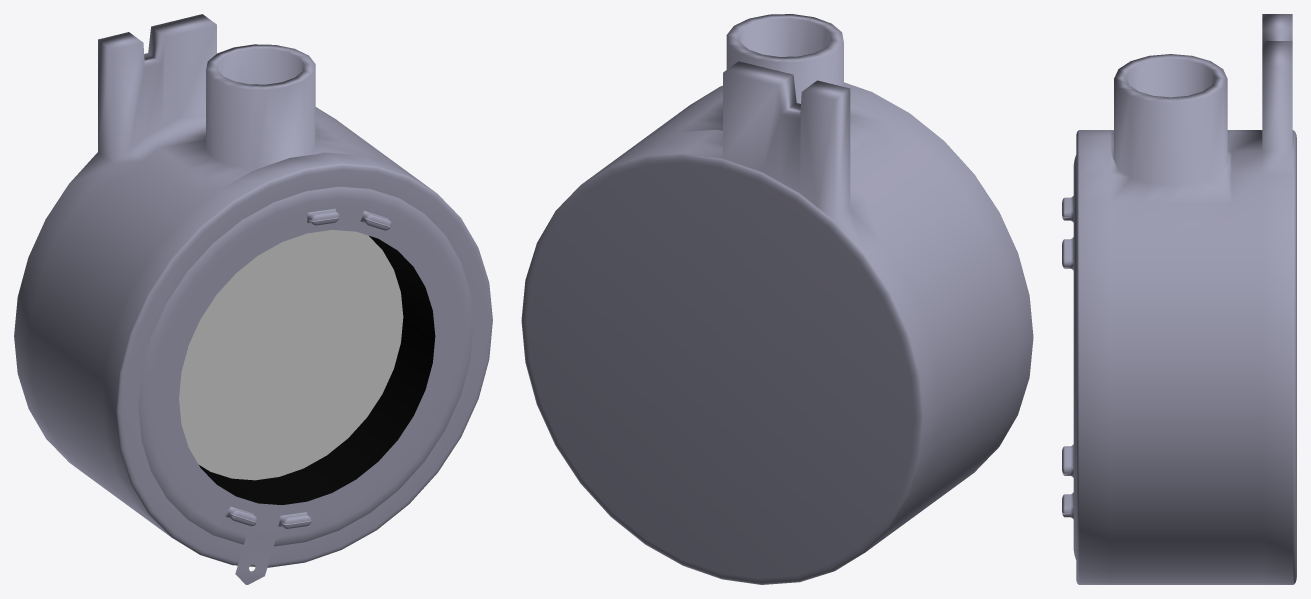
File: vein_id3.glb
3 views of the same model, side by side, from view 1: azimuth 30°, elevation 25°; view 2: azimuth 150°, elevation 25°; view 3: azimuth 270°, elevation 25° (orthographic). The views are drawn at different scales.
Parts seen in each view (by area): view 1: Cylinder.001, Glass_display, Cylinder.002; view 2: Cylinder.001; view 3: Cylinder.001.
Part boxes in pixels (x1,y1,x2,y2): Cylinder.001: (14,14,492,584); Glass_display: (179,230,403,480); Cylinder.002: (199,236,435,504); Cylinder.001: (521,14,1033,584); Cylinder.001: (1062,14,1296,584).
Bounding box in the file's own units: 0.5897 × 0.7189 × 0.3042.
